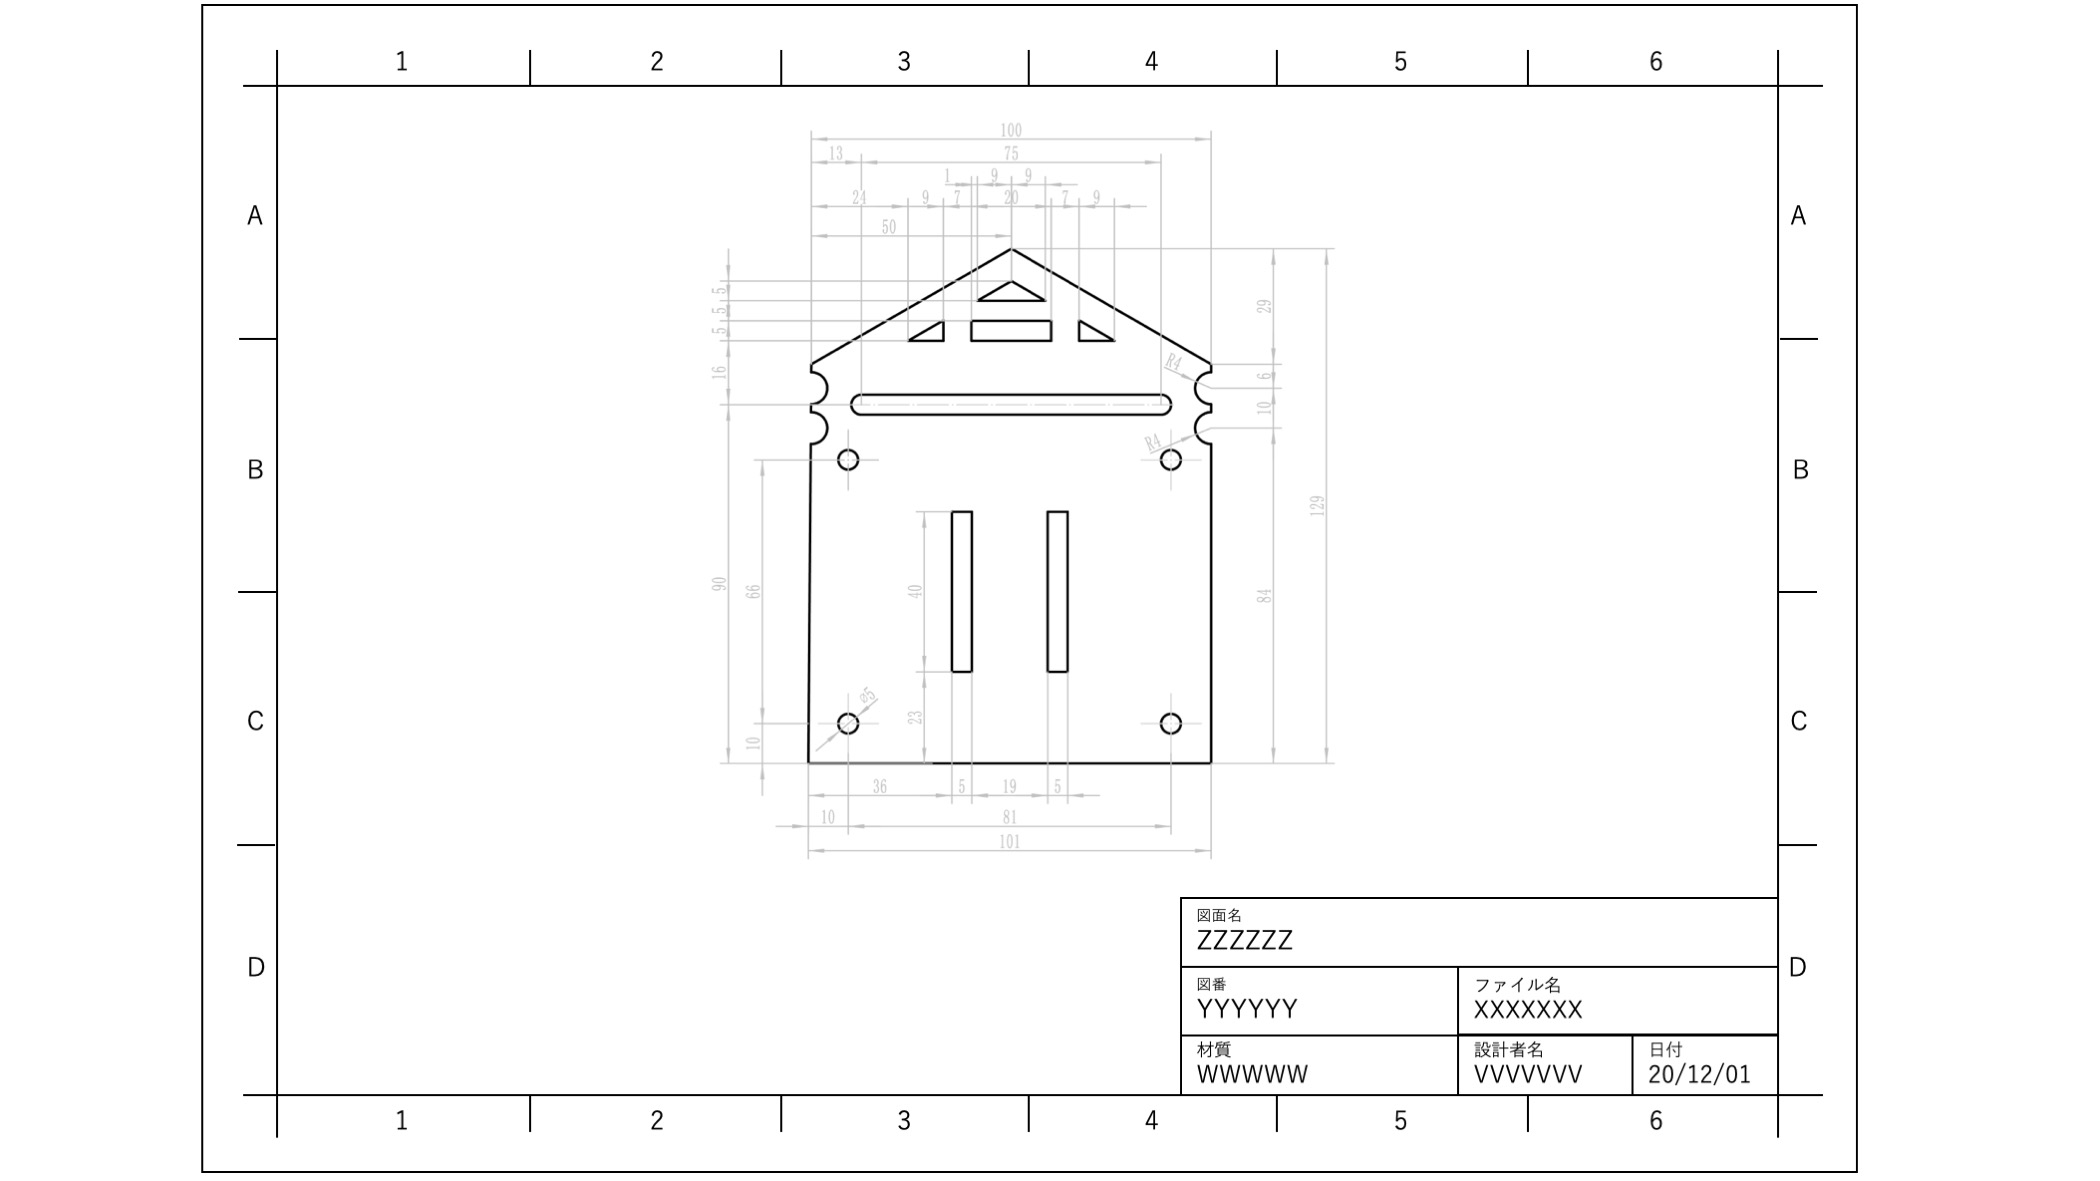circle: (831, 702, 862, 741), (1152, 709, 1188, 741), (1155, 440, 1186, 473), (829, 446, 861, 474)
rectangle: (946, 500, 979, 682), (1041, 503, 1075, 675), (963, 311, 1056, 350)
round_rectangle: (844, 384, 1175, 420)
triangle: (979, 274, 1051, 309), (1069, 314, 1119, 346), (904, 313, 949, 348)
